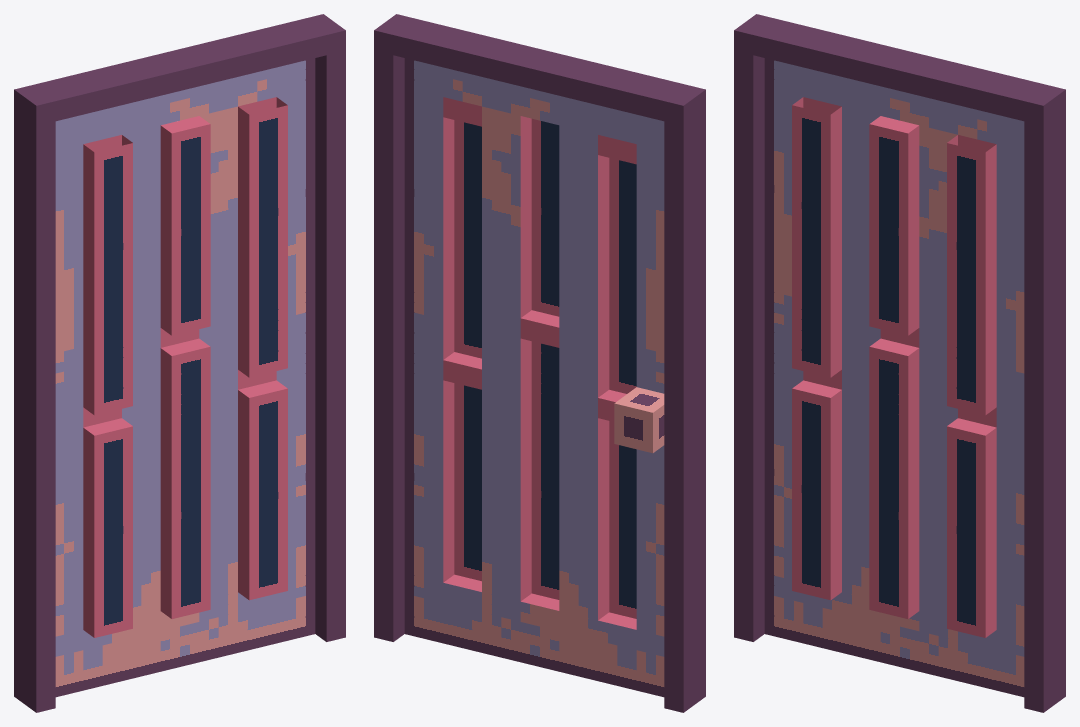
Rendered from door.gltf.
3 views of the same model, side by side, from view 1: azimuth 30°, elevation 25°; view 2: azimuth 150°, elevation 25°; view 3: azimuth 330°, elevation 25° (orthographic).
Visible parts, largest first — view 1: cuboid (×2); view 2: cuboid (×3); view 3: cuboid (×2).
Boxes of the visible parts, bbox=[...] form: cuboid (×2): bbox=[14, 14, 345, 712]; cuboid (×3): bbox=[374, 14, 705, 712]; cuboid (×2): bbox=[734, 14, 1065, 712].
Size of the model in its own units: 1 by 1.88 by 0.1875.
Materials: 1 (1 with a texture image).
